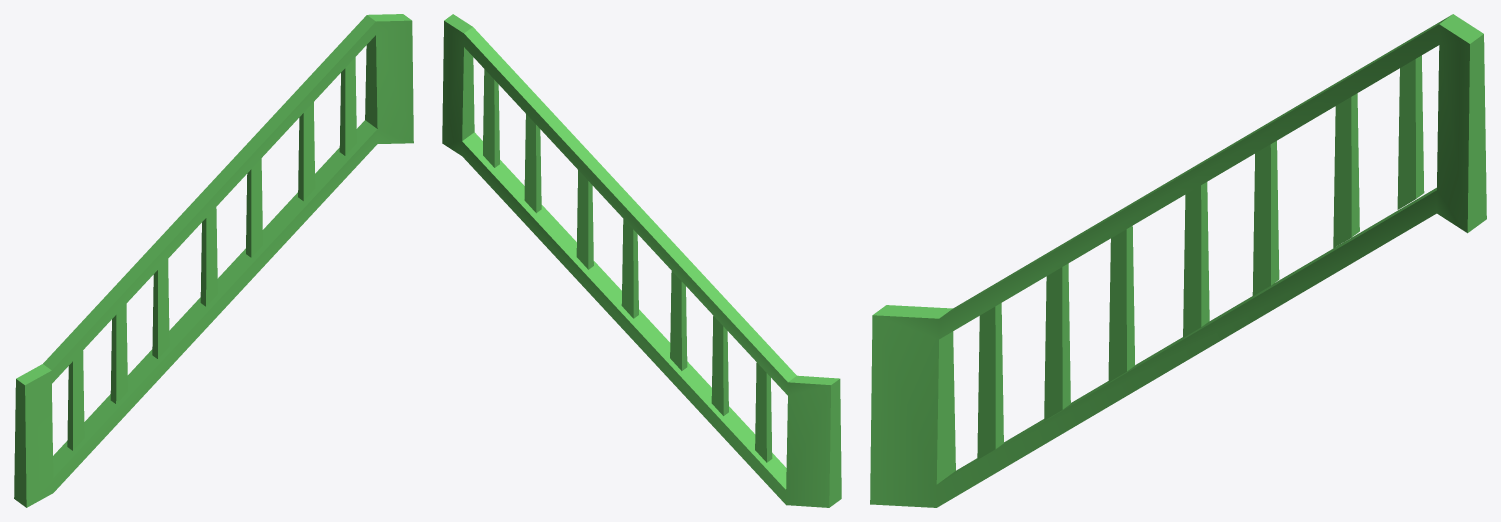
Rendered from Gen_Handrail_Stairs.fbx.
The picture shows the model from 3 angles, left to right: view 1: azimuth 30°, elevation 25°; view 2: azimuth 150°, elevation 25°; view 3: azimuth 330°, elevation 25°; orthographic projection. The views are drawn at different scales.
Visible parts, largest first — view 1: Gen_Handrail_Stairs; view 2: Gen_Handrail_Stairs; view 3: Gen_Handrail_Stairs.
Boxes of the visible parts, left/top/right/bottom form: Gen_Handrail_Stairs: left=14, top=14, right=413, bottom=507; Gen_Handrail_Stairs: left=442, top=14, right=841, bottom=507; Gen_Handrail_Stairs: left=870, top=14, right=1486, bottom=507.
Bounding box in the file's own units: 300 × 290 × 27.72.
